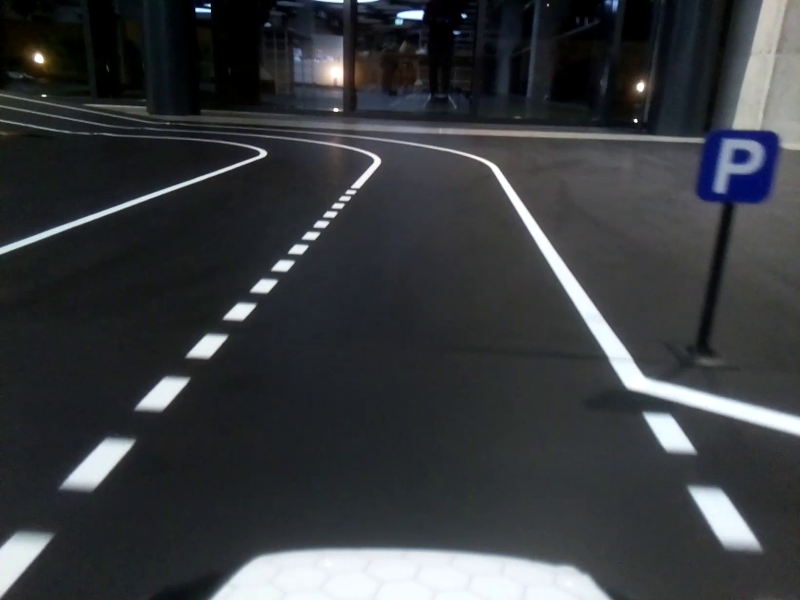park: (704, 131, 774, 204)
